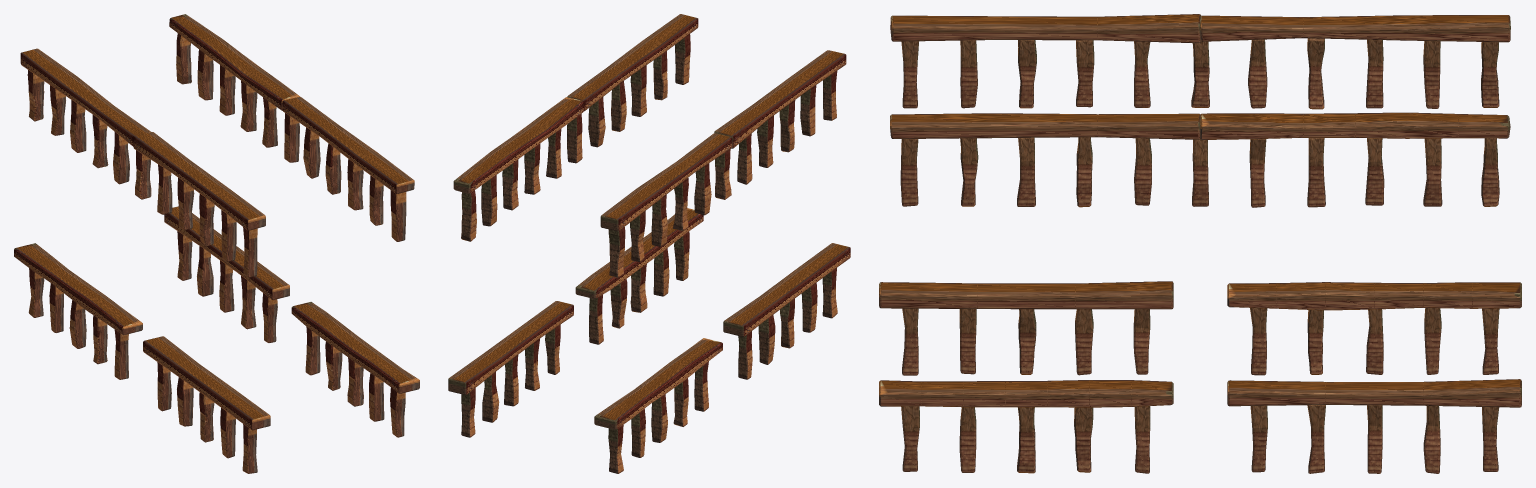
The model's file is M9_Dynamic1Wood_0_1kg.fbx.
The picture shows the model from 3 angles, left to right: view 1: azimuth 30°, elevation 25°; view 2: azimuth 150°, elevation 25°; view 3: azimuth 270°, elevation 25°; orthographic projection. The views are drawn at different scales.
Visible parts, largest first — view 1: D1Box35, D1Box14, D1Box38, D1Box11, D1Box13, D1Box36, D1Box37, D1Box12, D1Box39, D1Box27, D1Box25, D1Box43 (+38 smaller); view 2: D1Box14, D1Box36, D1Box37, D1Box13, D1Box12, D1Box35, D1Box38, D1Box11, D1Box25, D1Box29, D1Box44, D1Box27 (+38 smaller); view 3: D1Box35, D1Box37, D1Box14, D1Box11, D1Box13, D1Box38, D1Box36, D1Box12, D1Box25, D1Box47, D1Box45, D1Box33 (+38 smaller).
Boxes of the visible parts, x1,y1,x2,y2 form: D1Box35: [133, 132, 265, 230]; D1Box14: [143, 336, 270, 430]; D1Box38: [282, 97, 414, 193]; D1Box11: [291, 302, 419, 393]; D1Box13: [14, 243, 142, 335]; D1Box36: [20, 48, 151, 146]; D1Box37: [169, 14, 300, 110]; D1Box12: [164, 206, 289, 299]; D1Box39: [390, 190, 406, 241]; D1Box27: [70, 100, 86, 152]; D1Box25: [113, 132, 129, 184]; D1Box43: [303, 127, 320, 178]; D1Box14: [723, 243, 850, 336]; D1Box36: [600, 133, 732, 231]; D1Box37: [453, 97, 584, 193]; D1Box13: [594, 338, 722, 429]; D1Box12: [448, 301, 573, 394]; D1Box35: [714, 50, 846, 148]; D1Box38: [567, 14, 698, 111]; D1Box11: [575, 208, 703, 298]; D1Box25: [694, 163, 711, 215]; D1Box29: [608, 227, 625, 277]; D1Box44: [461, 190, 476, 241]; D1Box27: [651, 195, 667, 246]; D1Box35: [890, 14, 1200, 43]; D1Box37: [1200, 112, 1510, 139]; D1Box14: [879, 281, 1173, 309]; D1Box11: [879, 380, 1173, 407]; D1Box13: [1227, 282, 1521, 310]; D1Box38: [890, 113, 1200, 139]; D1Box36: [1200, 15, 1510, 42]; D1Box12: [1227, 379, 1521, 407]; D1Box25: [1248, 39, 1267, 108]; D1Box47: [1307, 138, 1325, 207]; D1Box45: [1423, 138, 1442, 206]; D1Box33: [960, 40, 977, 108].
Size of what is drawn, in the model's own units: 6.89 by 10.08 by 16.61.
